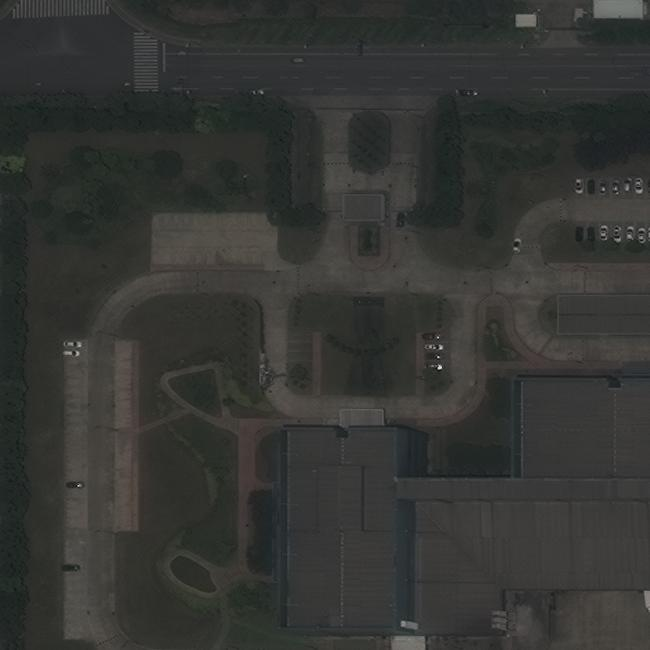parking lot: (61, 340, 88, 639), (572, 220, 646, 247), (572, 176, 644, 199), (421, 335, 448, 375)
